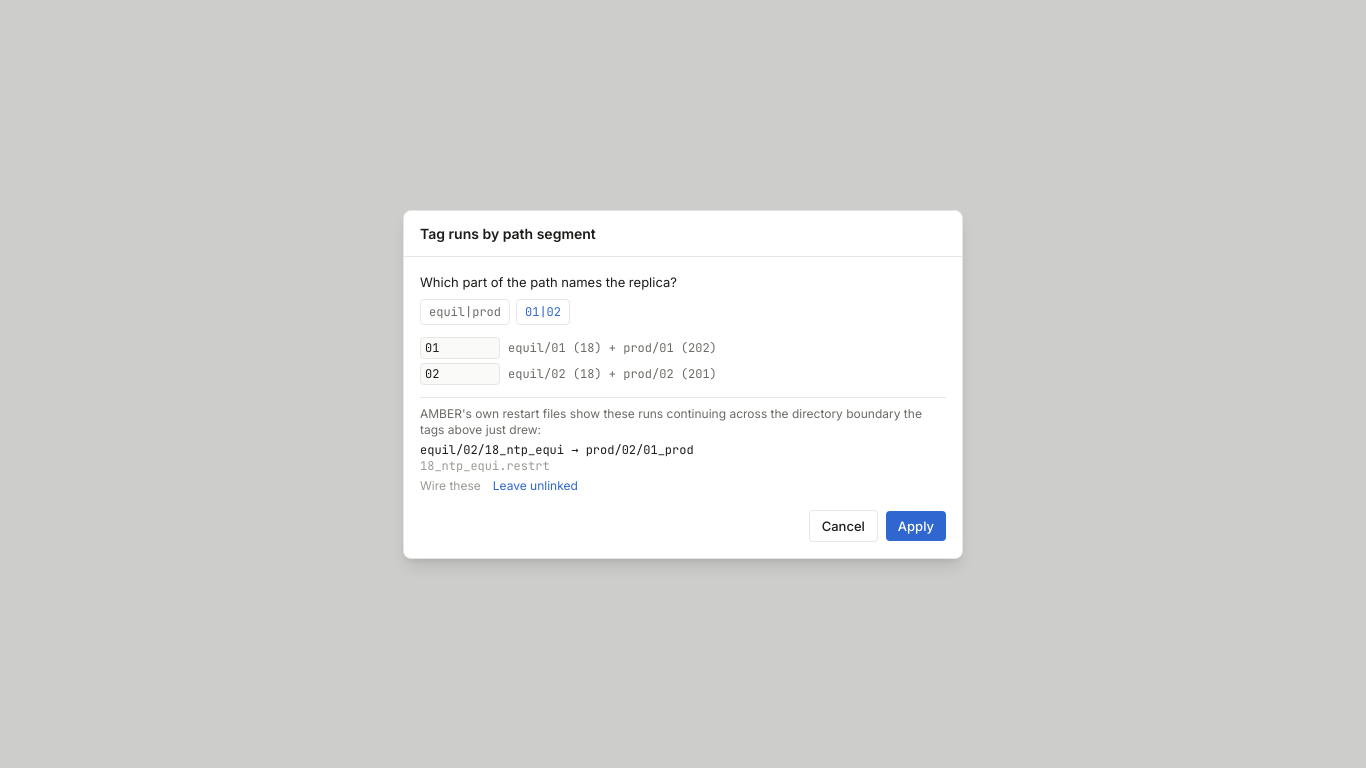
Scenario: regroups the preview live when a segment is picked
The width and height of the screenshot is (1366, 768).
Step 1. Click the button "equil|prod" → (465, 312), box [420, 298, 510, 324]
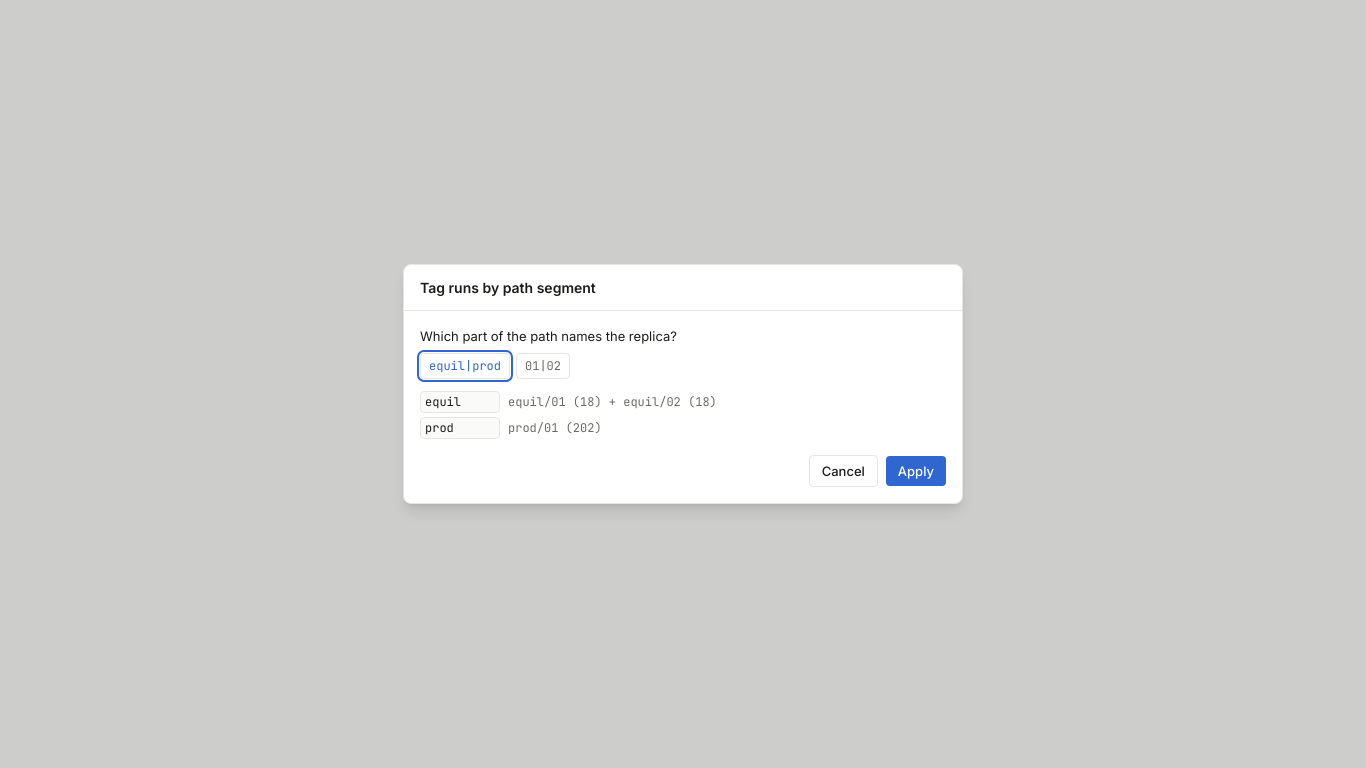
Expected: the field named "tag for equil" holds "equil", [420, 391, 500, 413]
Expected: the field named "tag for prod" holds "prod", [420, 417, 500, 439]
